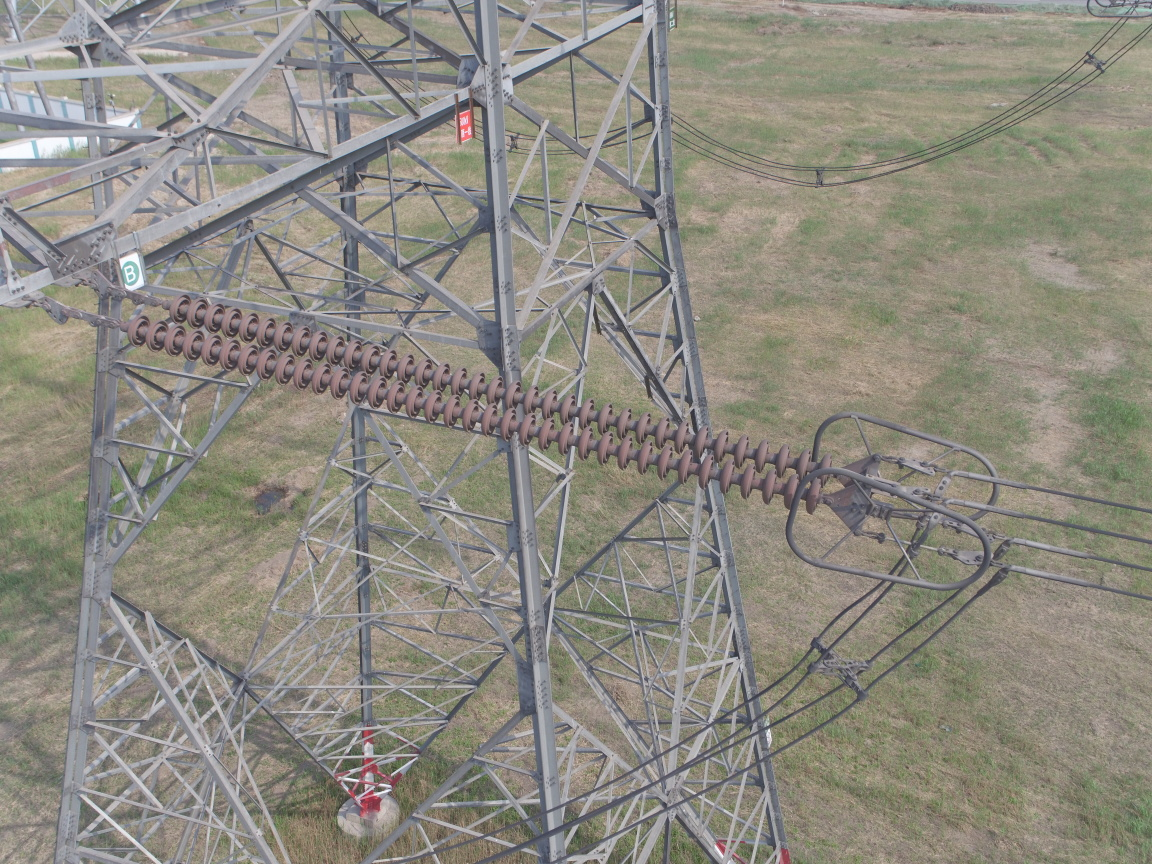insulator: (87, 286, 852, 518)
